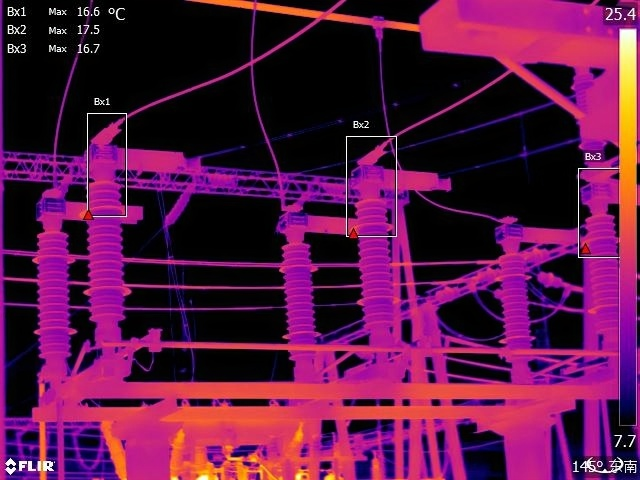clamp: (364, 6, 393, 48)
insulator: (160, 185, 195, 229)
post insulator: (83, 175, 137, 332), (27, 227, 79, 363), (354, 193, 400, 336), (278, 239, 325, 348), (493, 244, 537, 355), (584, 213, 619, 334), (570, 68, 608, 162)
switch: (423, 1, 640, 73), (85, 133, 203, 183), (270, 200, 398, 246), (342, 155, 459, 203), (33, 186, 152, 233), (495, 211, 583, 256), (577, 169, 640, 216)
